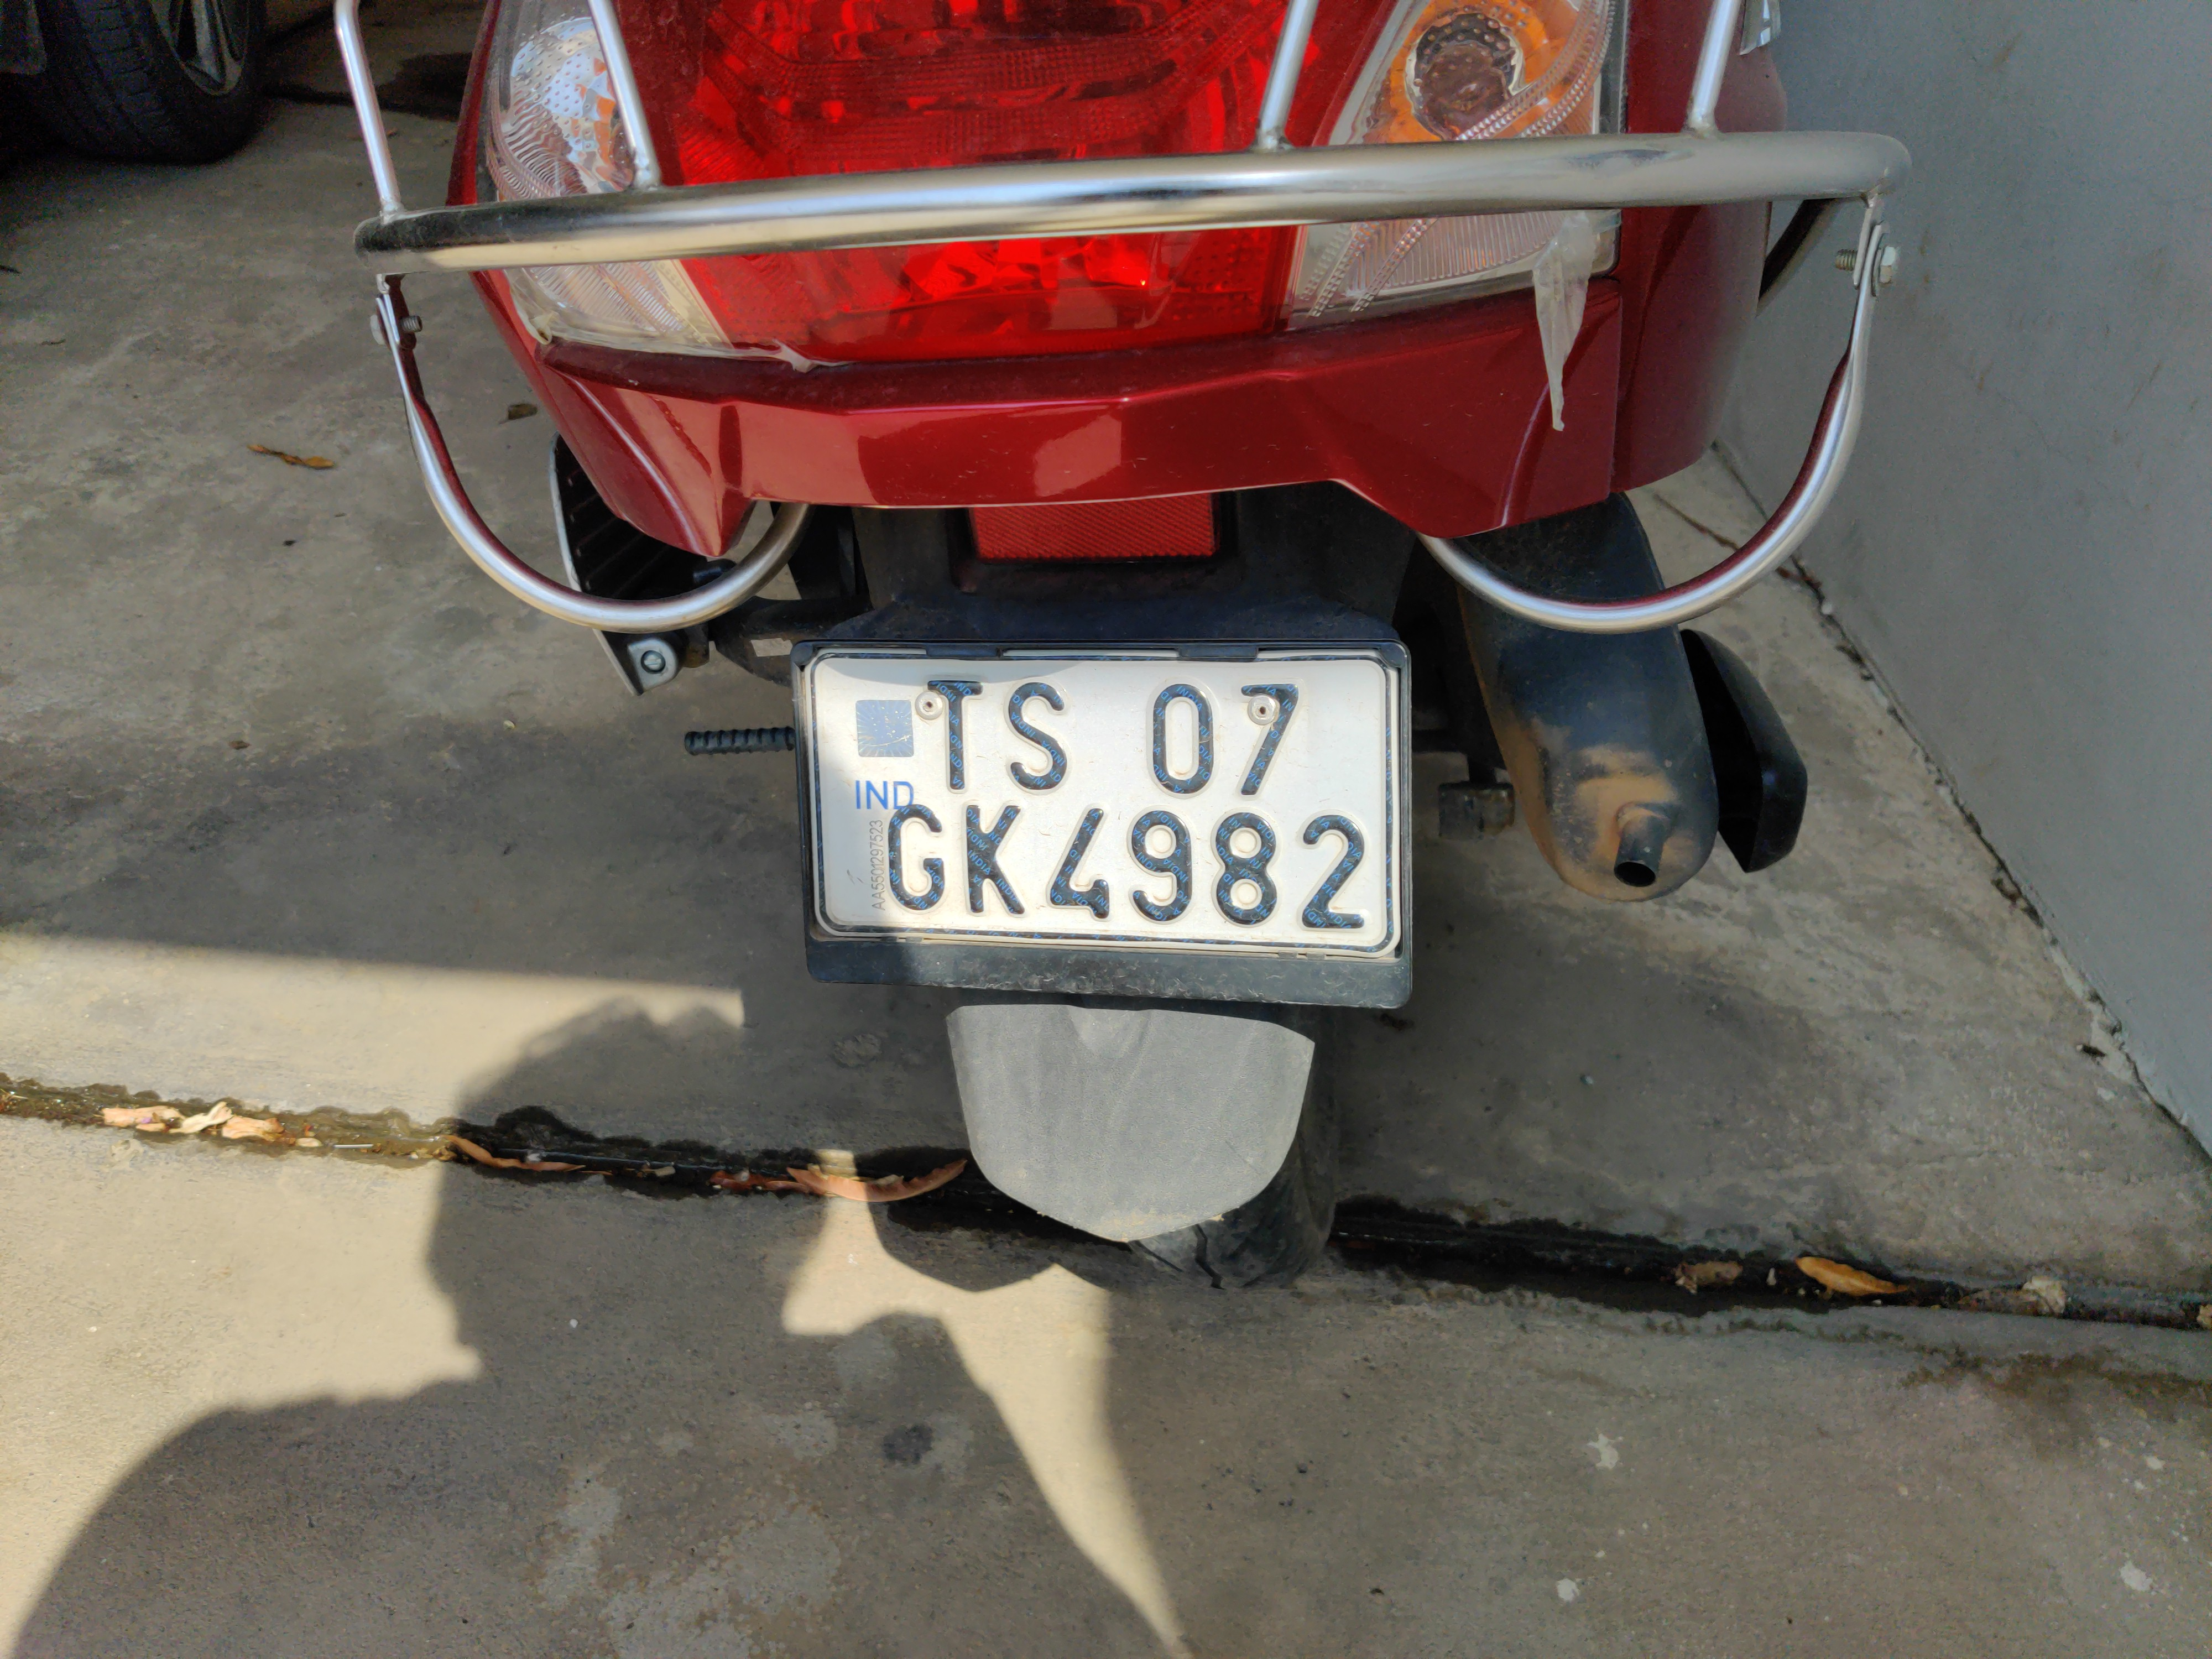plate: (760, 578, 1457, 1120)
